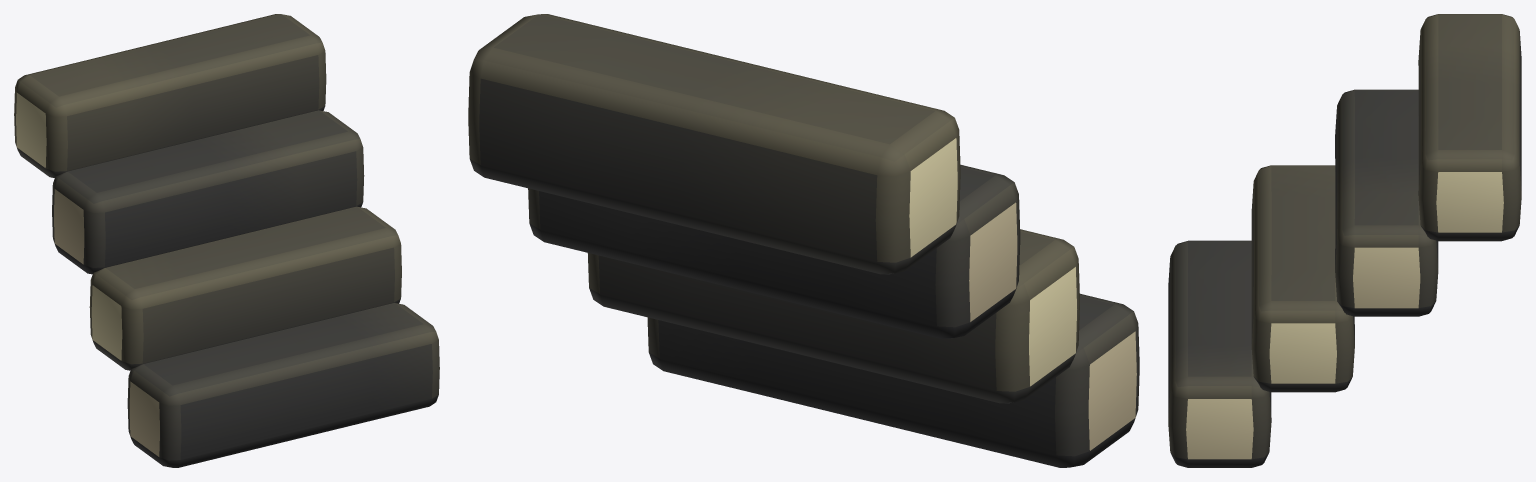
Rendered from ColdWood_Stairs.fbx.
The picture shows the model from 3 angles, left to right: view 1: azimuth 30°, elevation 25°; view 2: azimuth 150°, elevation 25°; view 3: azimuth 270°, elevation 25°; orthographic projection. The views are drawn at different scales.
Parts seen in each view (by area): view 1: ColdWood_Stairs_LOD0; view 2: ColdWood_Stairs_LOD0; view 3: ColdWood_Stairs_LOD0.
Part boxes in pixels (bbox=[...]): ColdWood_Stairs_LOD0: bbox=[14, 14, 439, 467]; ColdWood_Stairs_LOD0: bbox=[468, 14, 1139, 467]; ColdWood_Stairs_LOD0: bbox=[1168, 14, 1521, 467].
Size of what is drawn, in the model's own units: 1.06 by 1.05 by 1.06.
